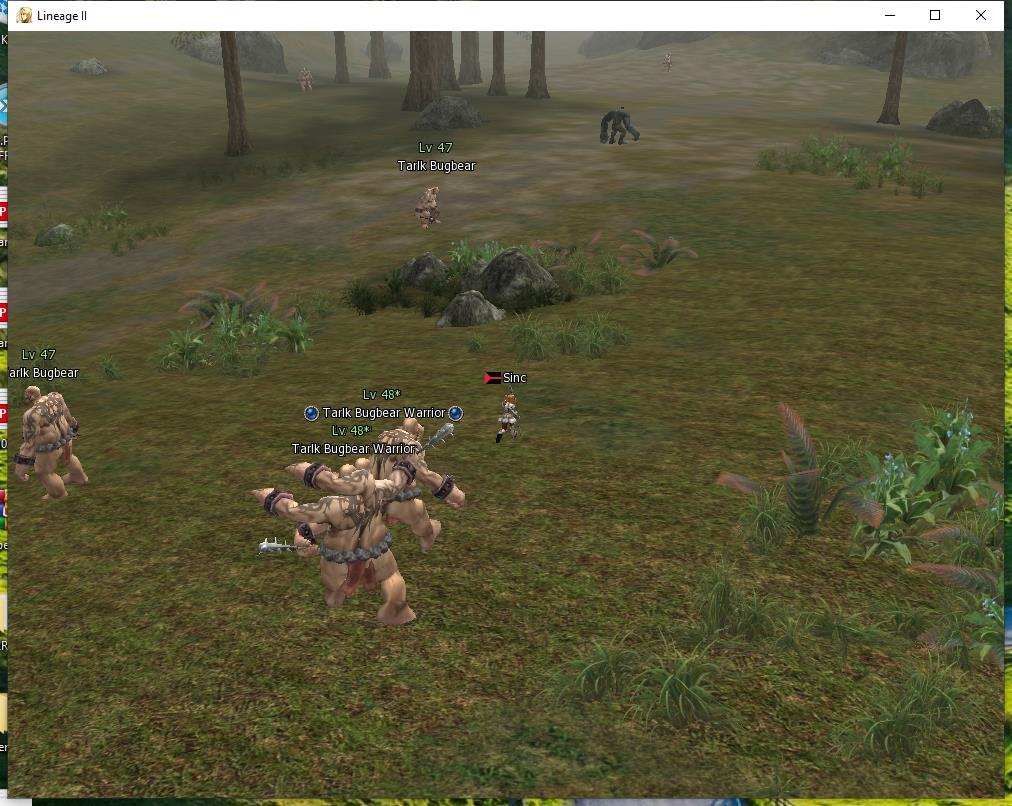monster: (278, 373, 469, 622), (15, 331, 97, 523), (401, 136, 477, 234), (587, 101, 650, 158)
